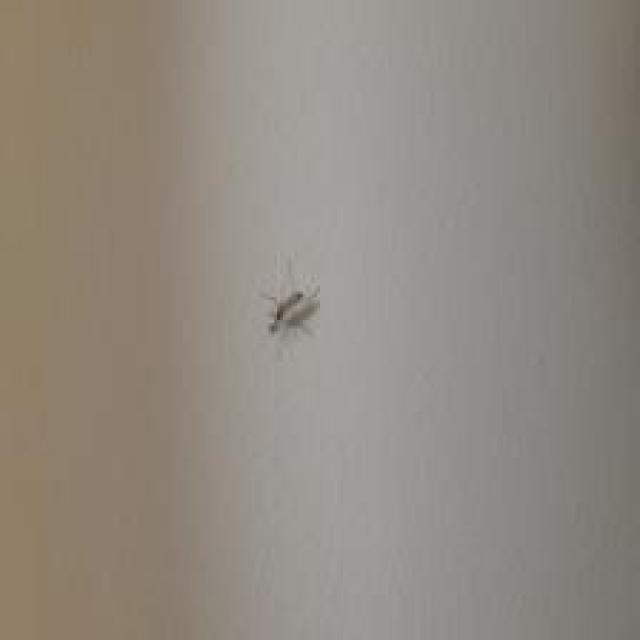Culex: (258, 254, 322, 337)
